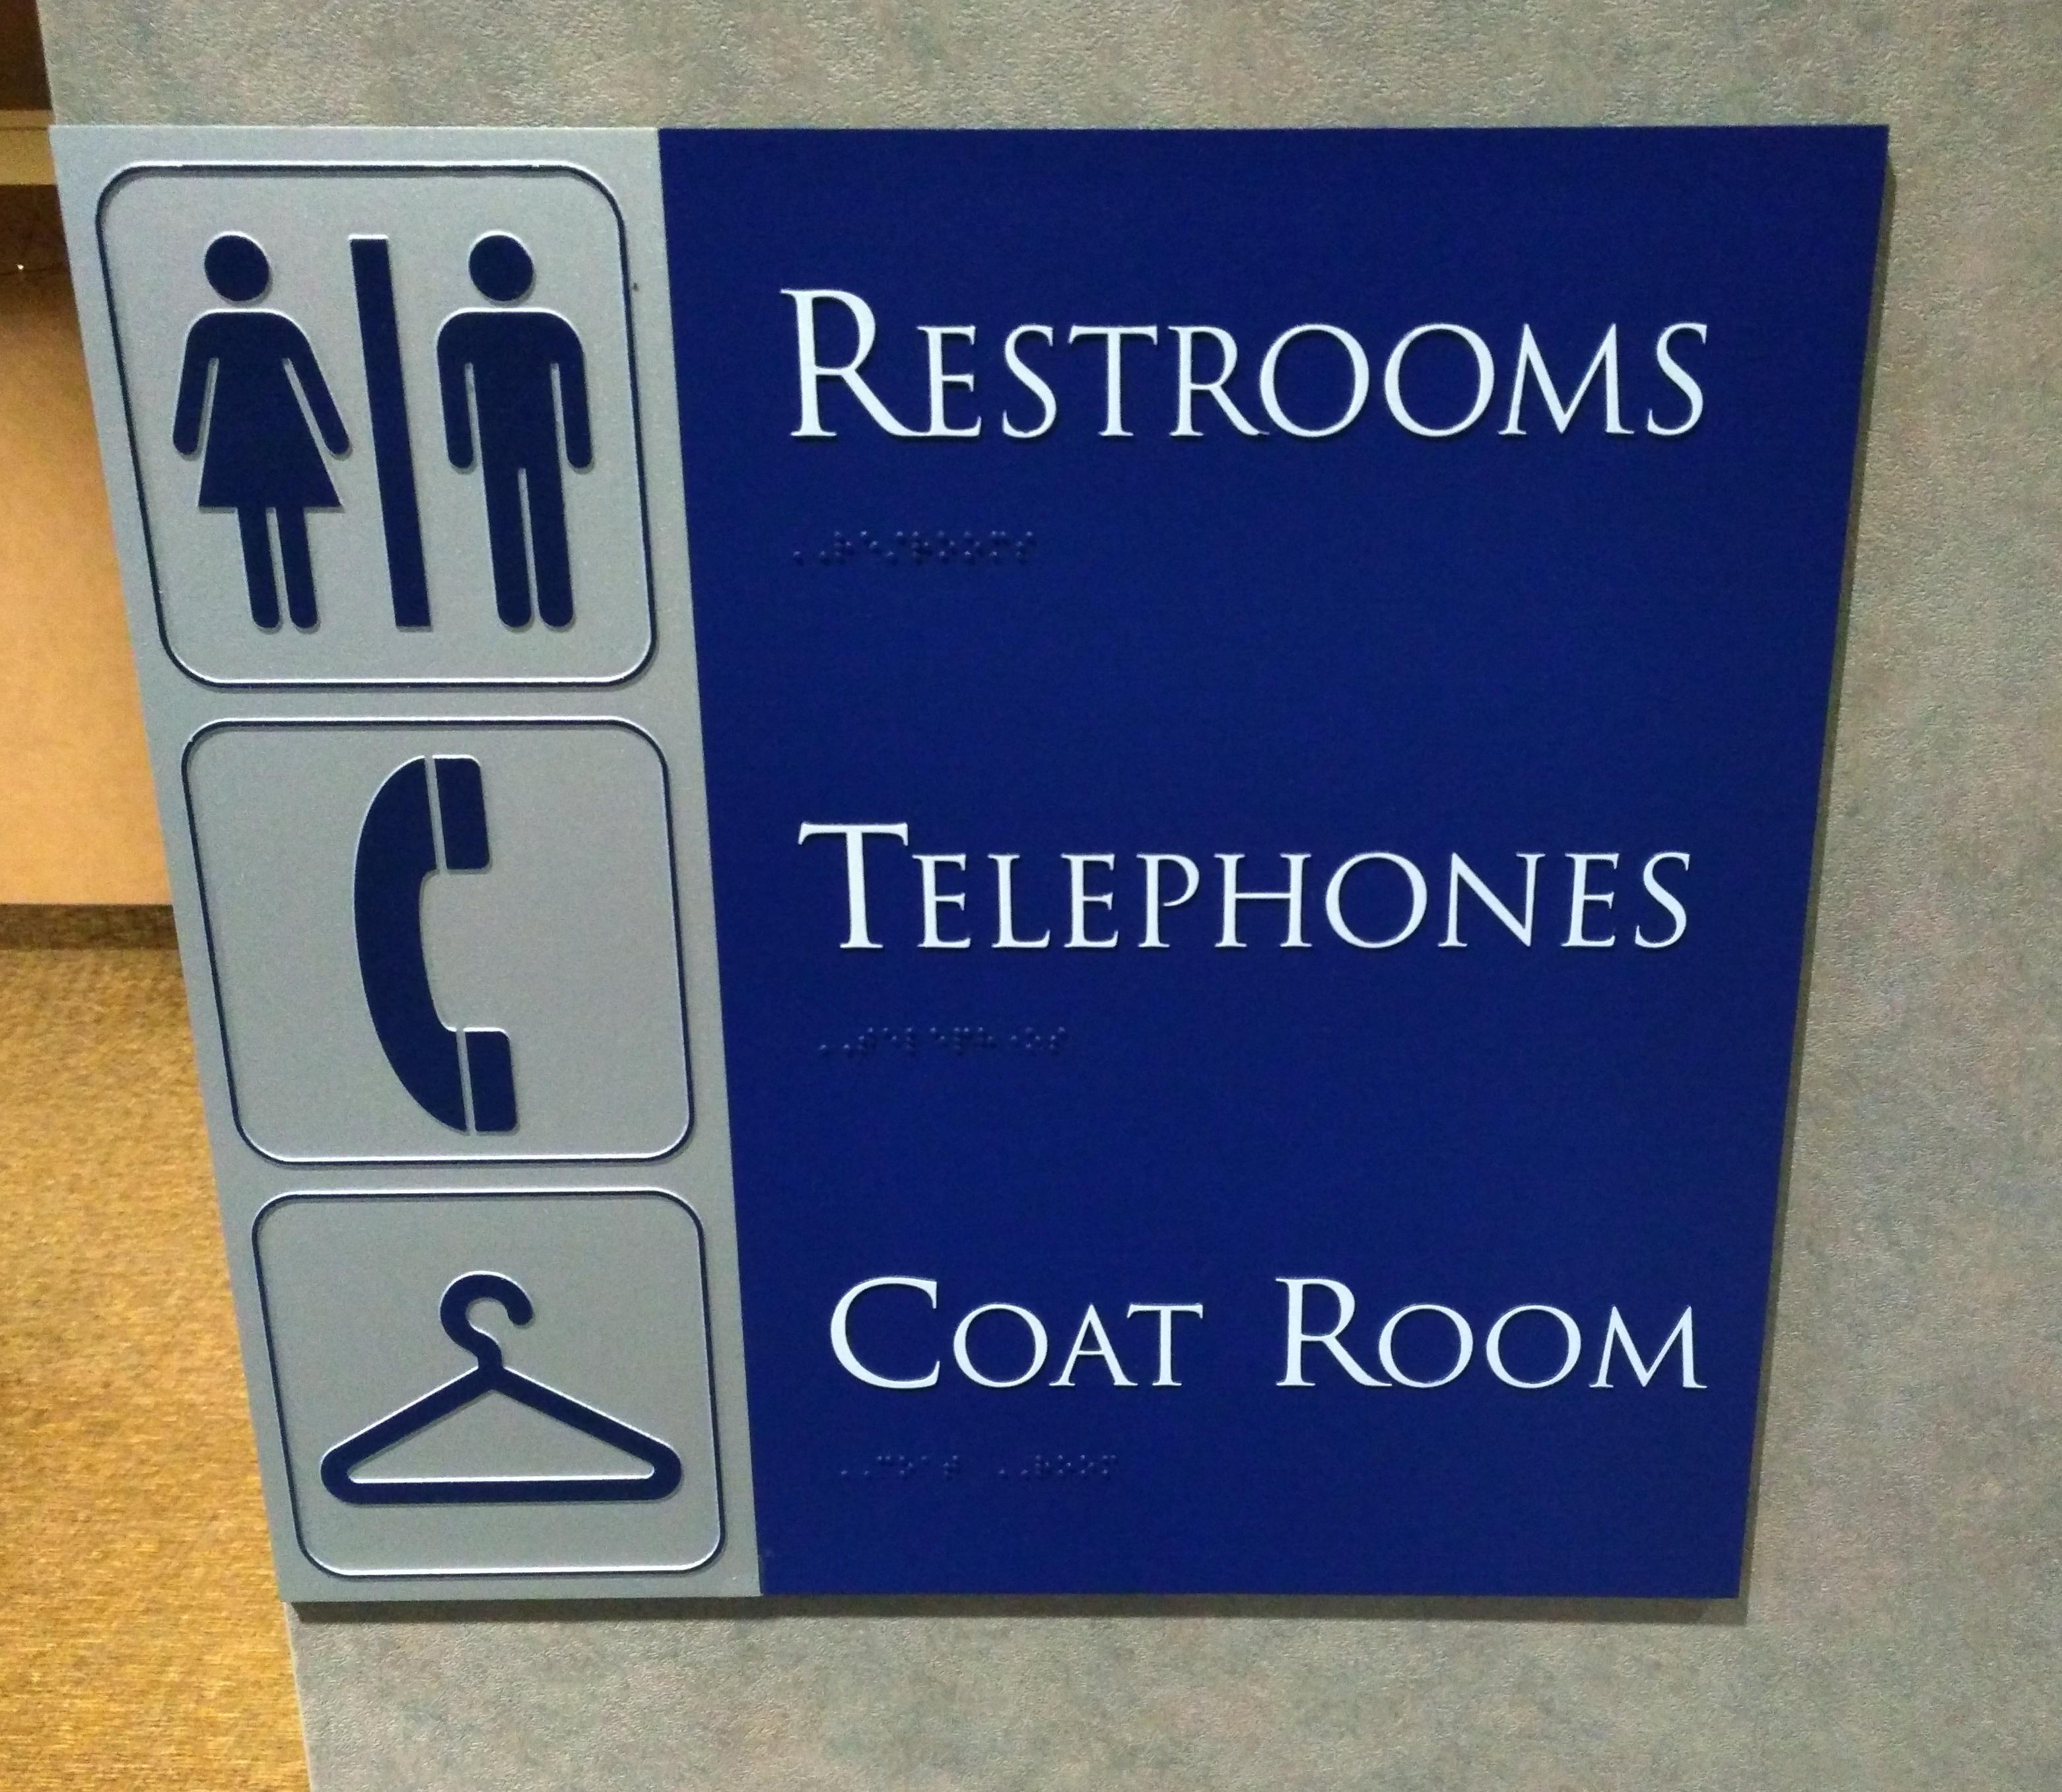sign: (47, 126, 1890, 1610)
